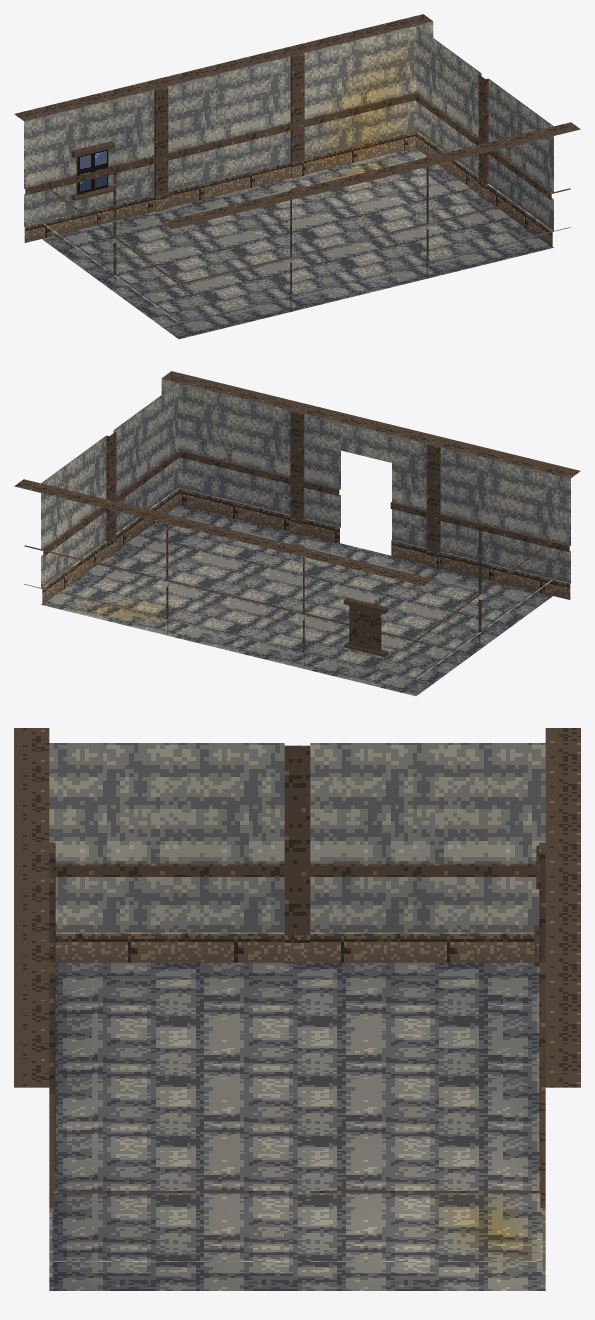
Rendered from vlg.room.glb.
The picture shows the model from 3 angles, top to bottom: view 1: azimuth 30°, elevation 25°; view 2: azimuth 150°, elevation 25°; view 3: azimuth 270°, elevation 25°; orthographic projection. The views are drawn at different scales.
Parts seen in each view (by area): view 1: kit_shell_walls, kit_shell_floor, kit_fittings; view 2: kit_shell_walls, kit_shell_floor, kit_fittings; view 3: kit_shell_floor, kit_shell_walls.
Part boxes in pixels (left/top/right/bottom): kit_shell_walls: left=14, top=14, right=580, bottom=327; kit_shell_floor: left=42, top=148, right=553, bottom=339; kit_fittings: left=71, top=141, right=114, bottom=200; kit_shell_walls: left=14, top=371, right=580, bottom=684; kit_shell_floor: left=41, top=505, right=552, bottom=696; kit_fittings: left=343, top=597, right=388, bottom=657; kit_shell_floor: left=49, top=962, right=545, bottom=1290; kit_shell_walls: left=14, top=728, right=580, bottom=1276.
Size of the model in its own units: 12 by 3.4 by 8.
6 materials, 6 textured.
